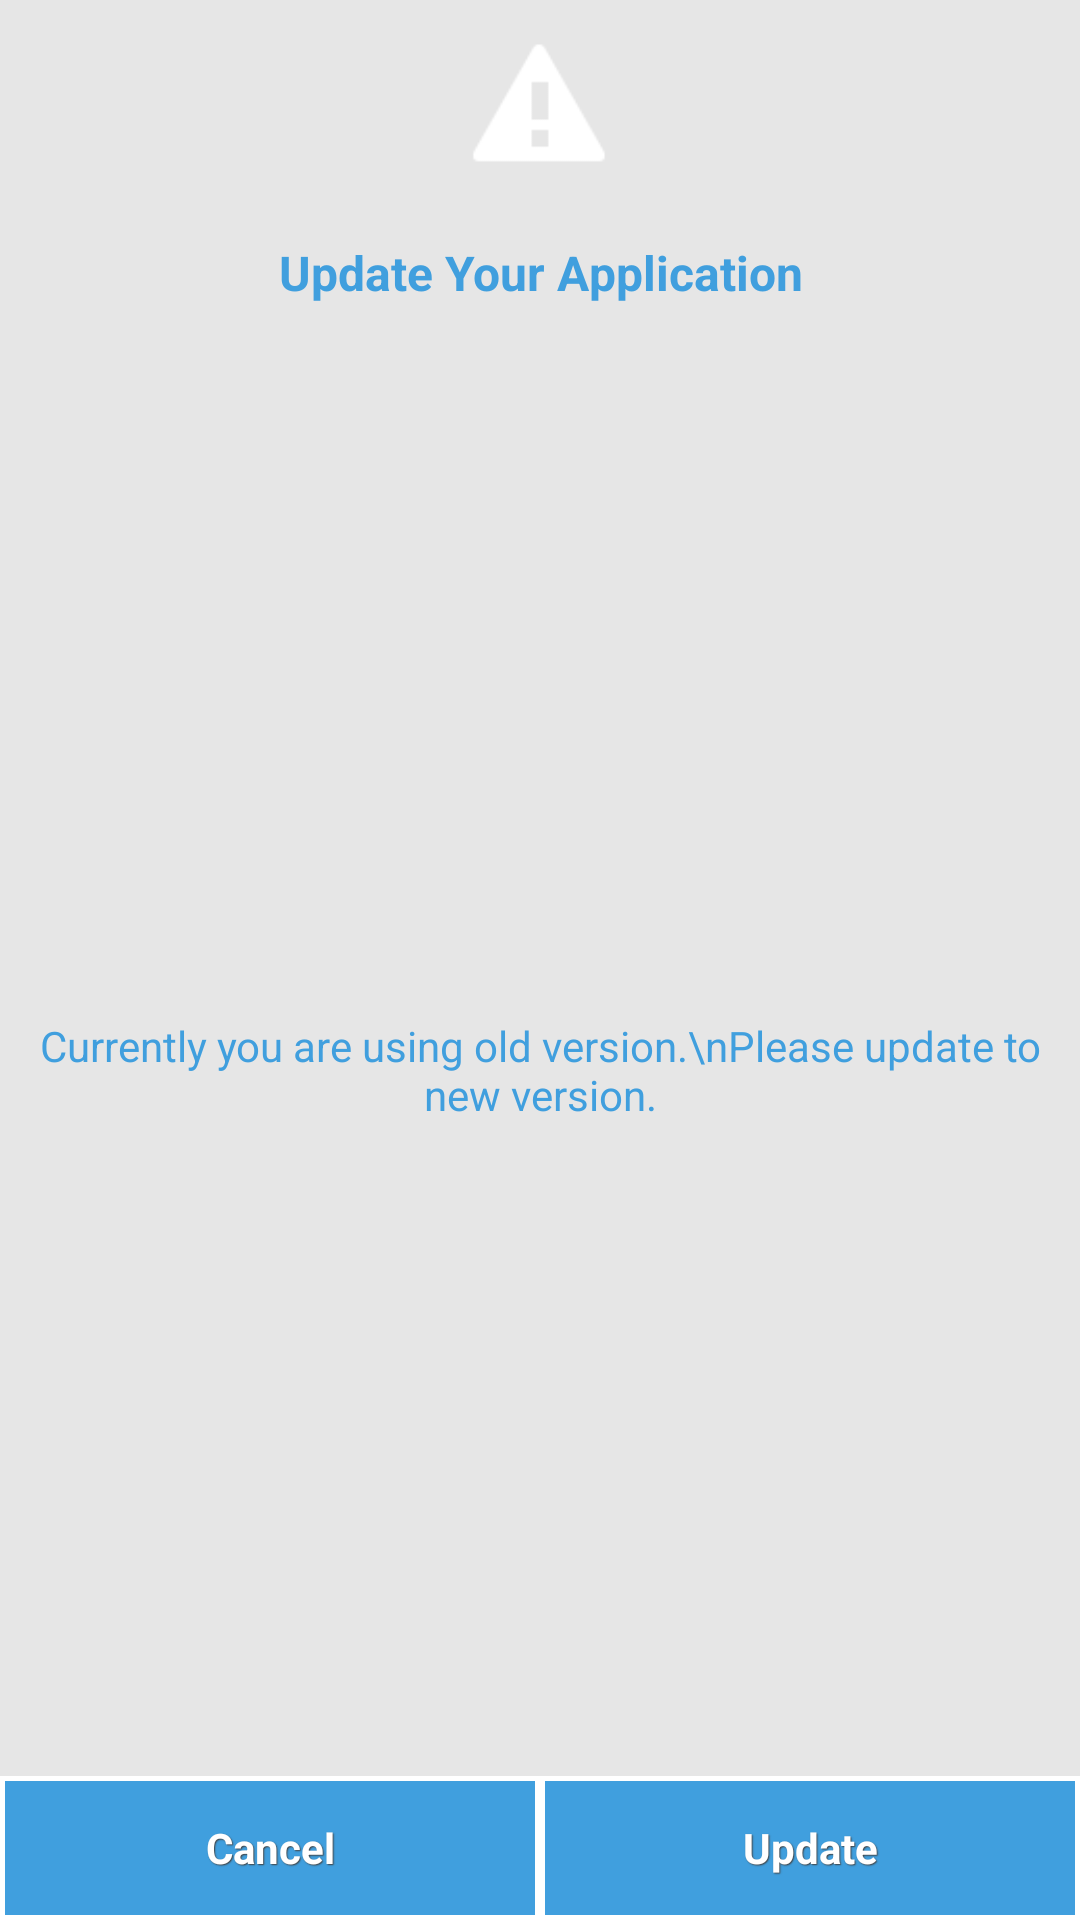

Icon click points for this 1080 × 1920 phone screenshot, format (x=x, y=y):
warning: (x=539, y=103)
